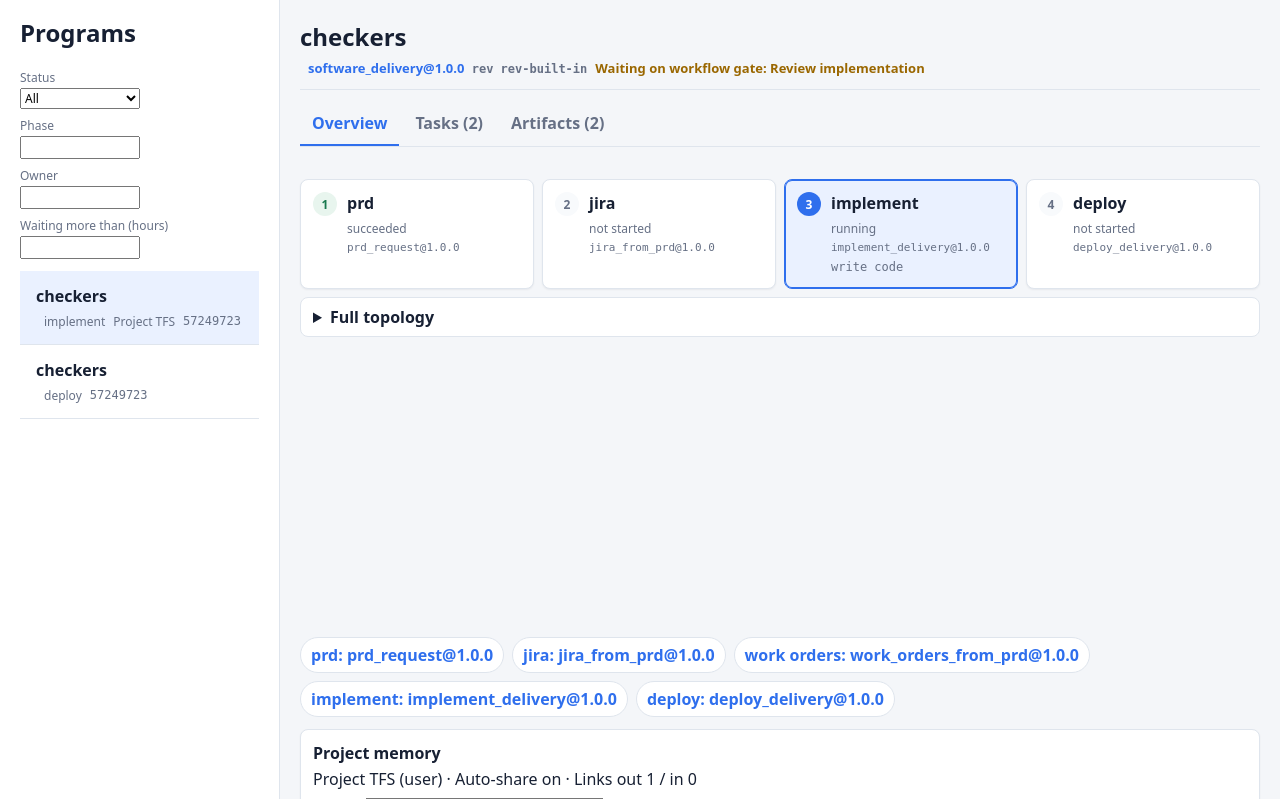
Test: keeps Tasks on the current phase workflow after inspecting another phase
The width and height of the screenshot is (1280, 799).
Check: the tab "Tasks (2)" is shown, box [403, 102, 495, 146]
Click the button "1 prd succeeded prd_request@1.0.0".
click(417, 234)  # box [300, 179, 534, 289]
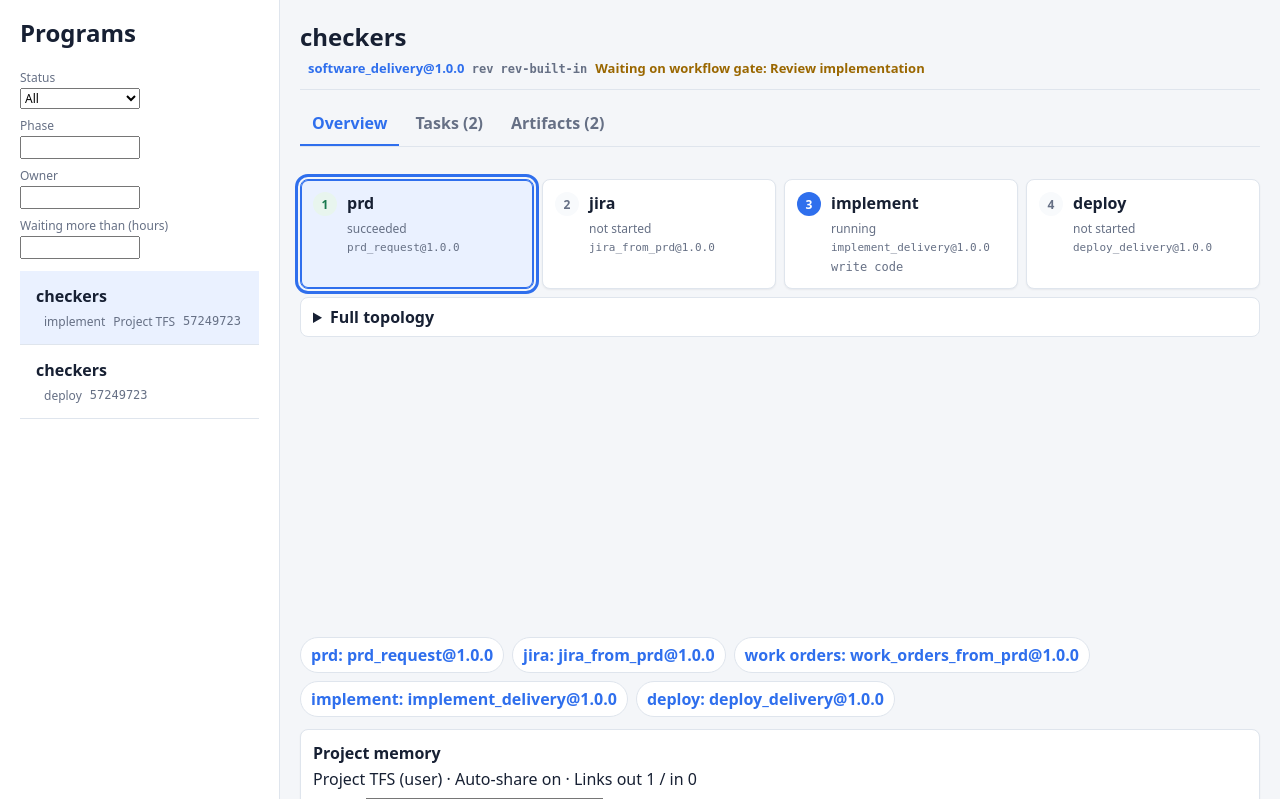
Click the tab "Tasks (2)".
click(449, 124)  # box [403, 102, 495, 146]
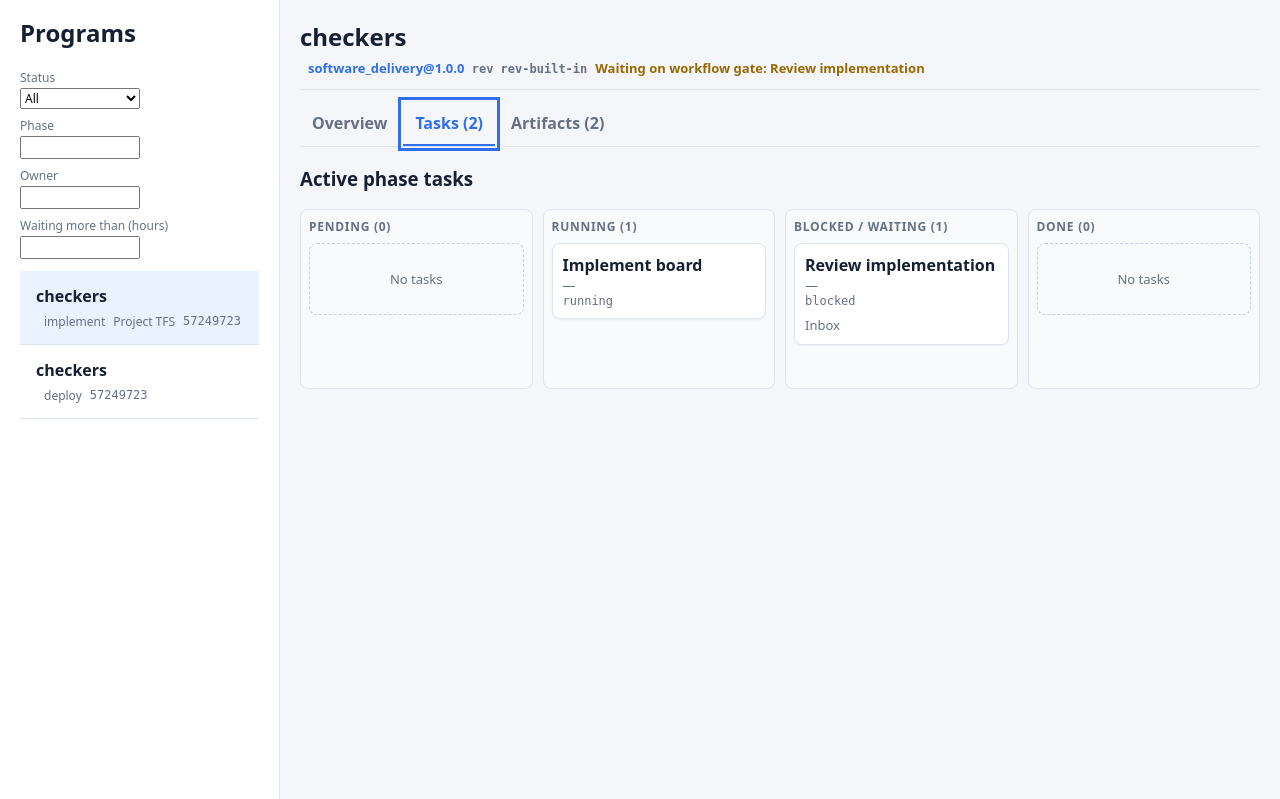
Check: the text "Implement board" is shown, box [562, 254, 702, 276]
